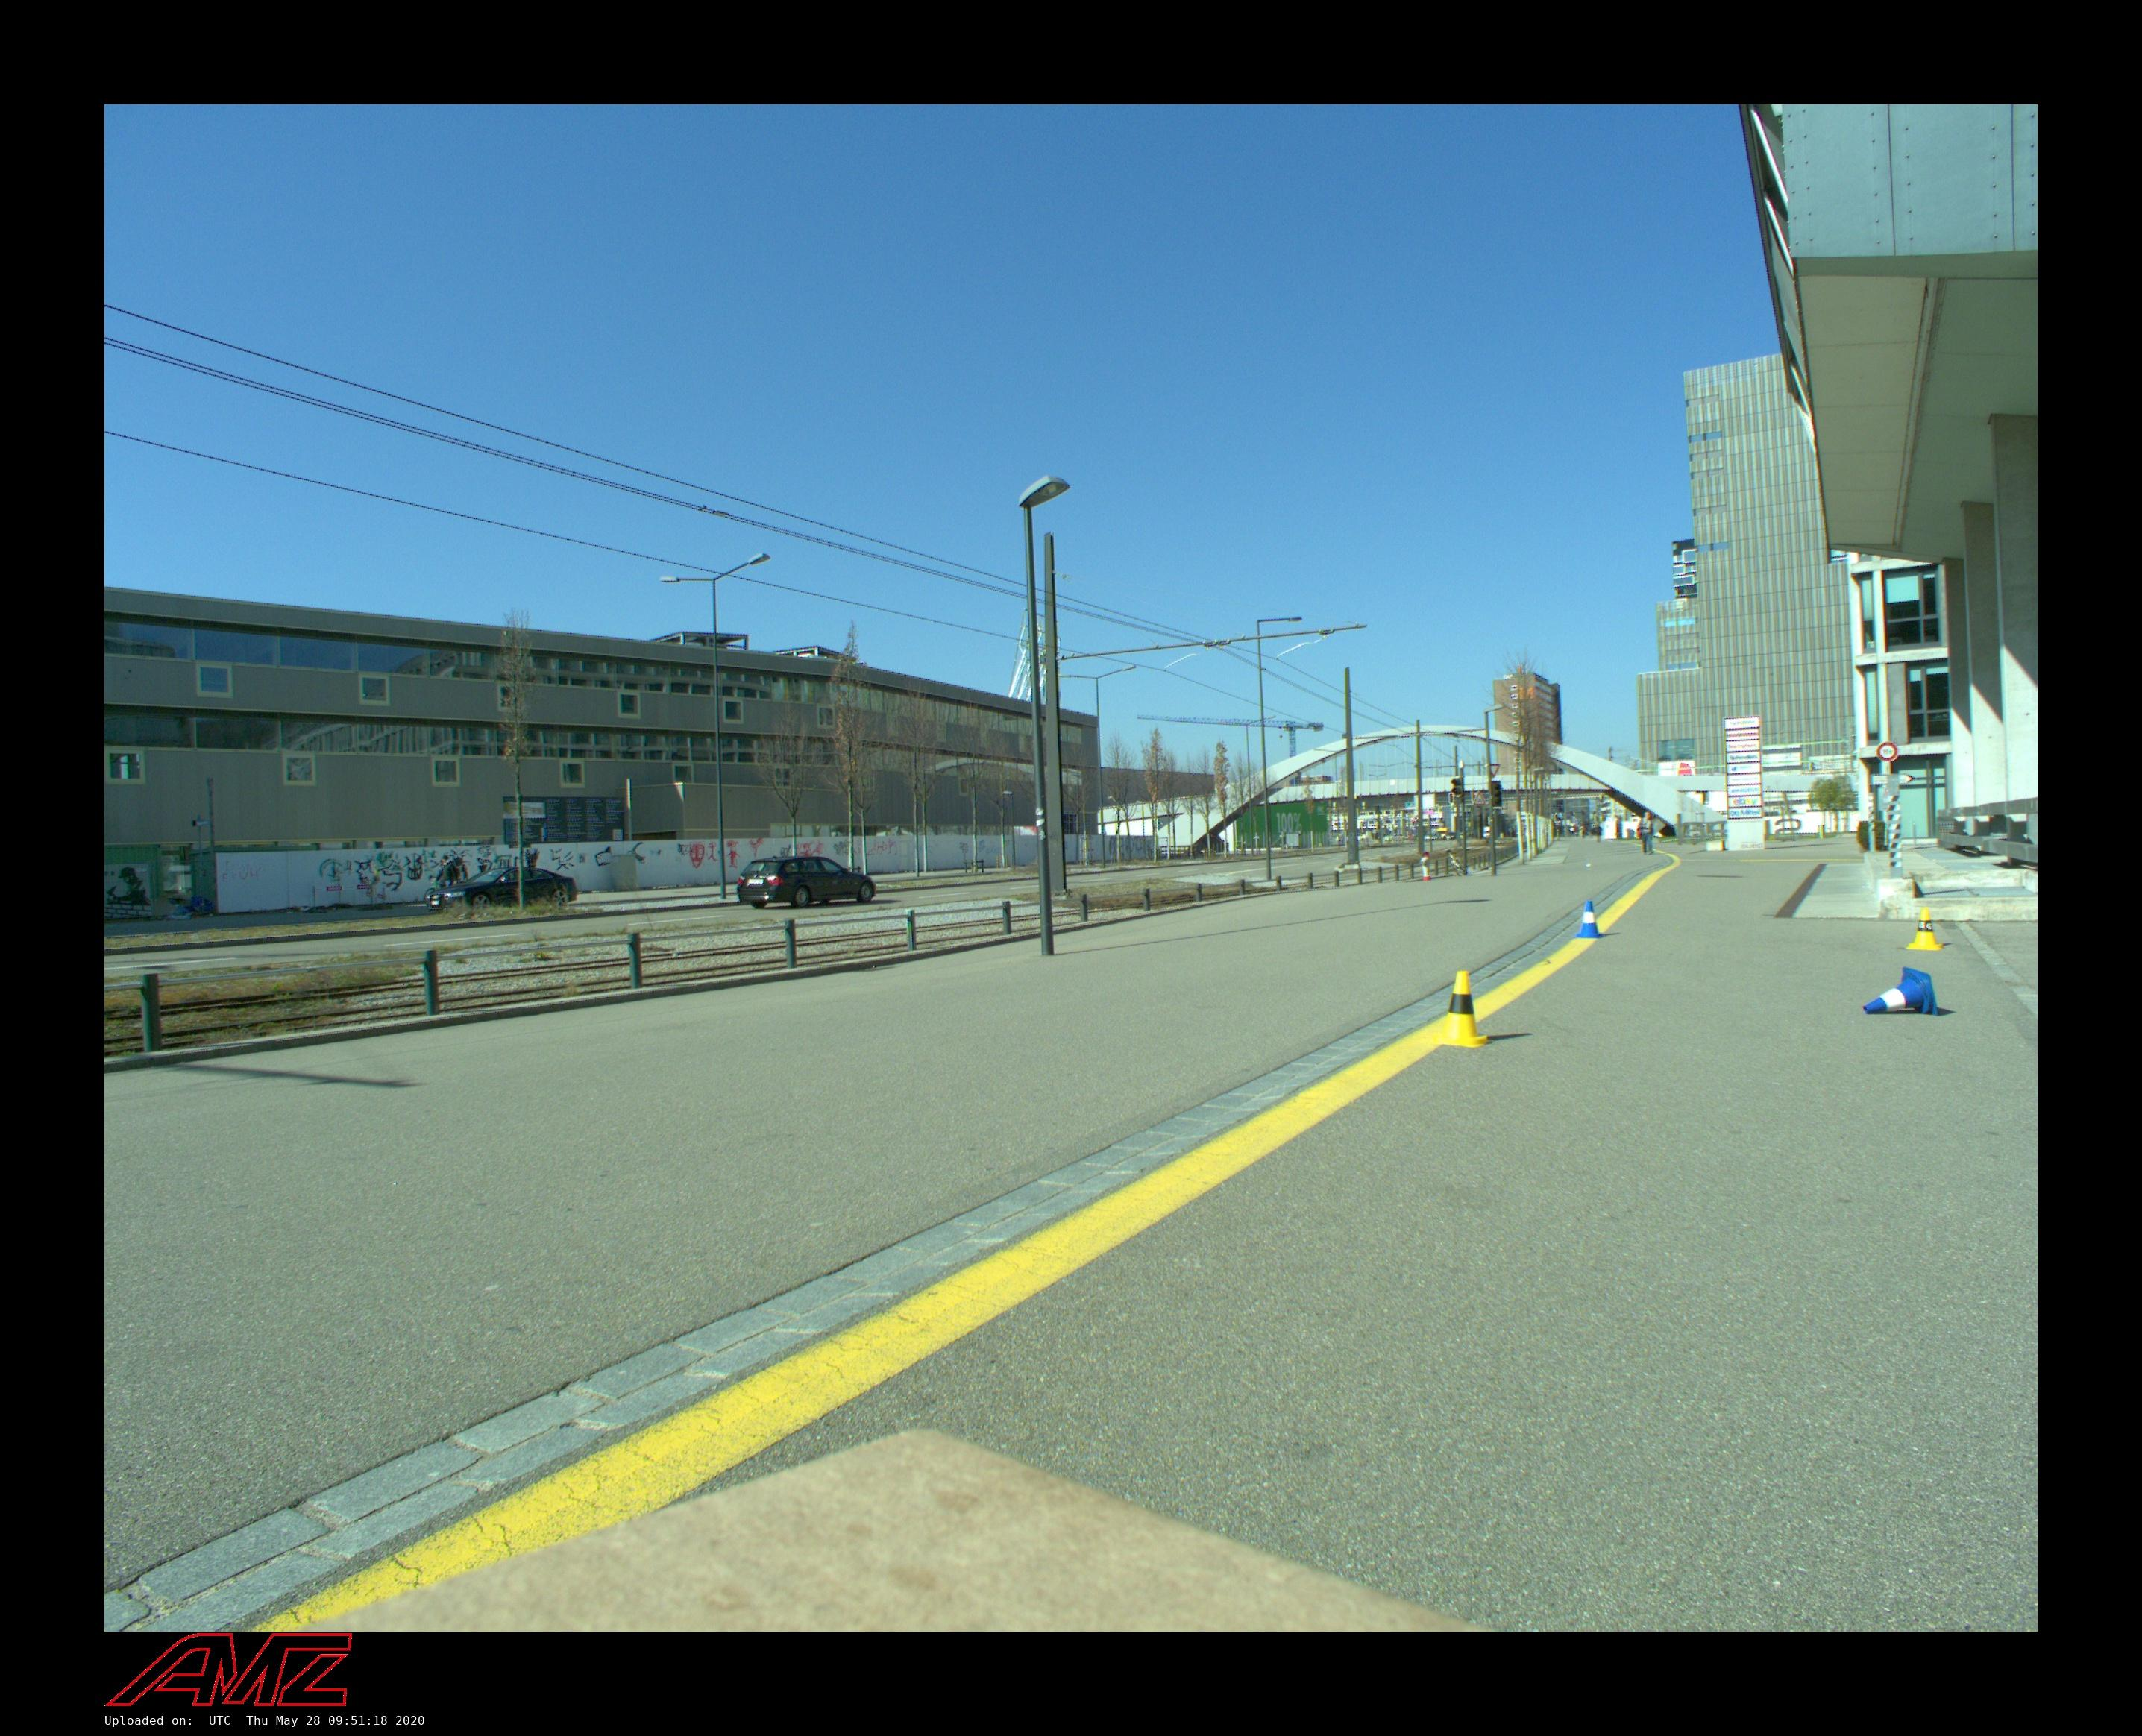blue_cone: (1862, 967, 1938, 1017), (1572, 902, 1607, 939)
yellow_cone: (1430, 971, 1494, 1047), (1906, 907, 1945, 949)
